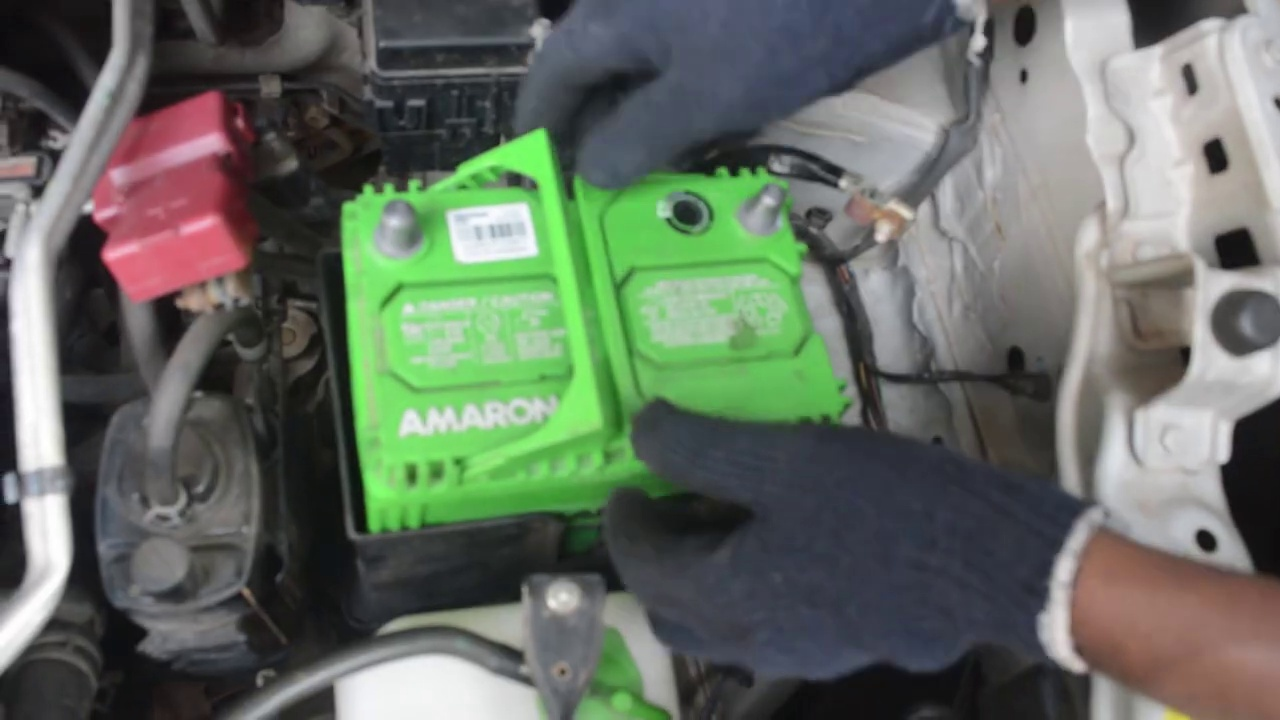battery: (332, 162, 839, 486)
neg_disconnected: (707, 166, 803, 260)
pos_disconnected: (106, 88, 453, 309)
